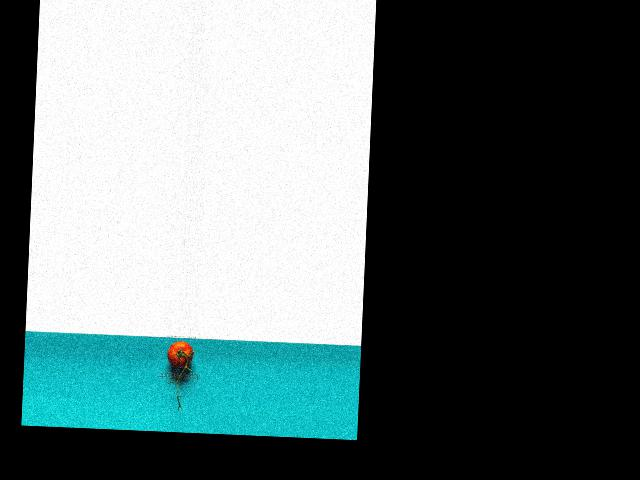tomato: (167, 341, 194, 367)
